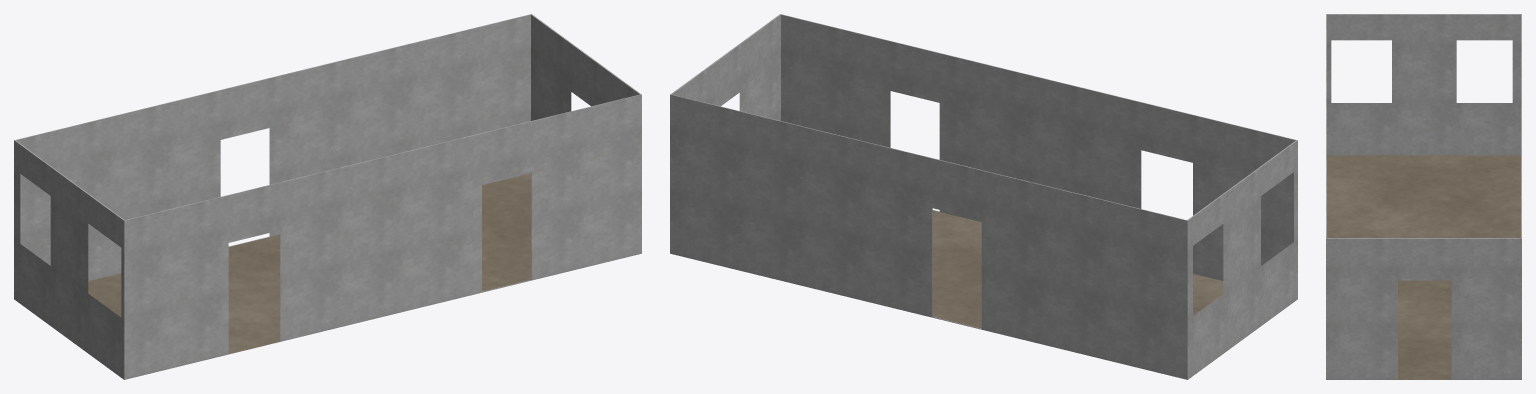
The model's file is Room-excluded.fbx.
3 renders of one model, left to right at view 1: azimuth 30°, elevation 25°; view 2: azimuth 150°, elevation 25°; view 3: azimuth 270°, elevation 25°, orthographic. The views are drawn at different scales.
Visible parts, largest first — view 1: Cube; view 2: Cube; view 3: Cube.
Boxes of the visible parts, <box> form: Cube: <box>14,14,641,379</box>; Cube: <box>670,14,1297,379</box>; Cube: <box>1326,14,1521,379</box>.
Size of the model in its own units: 10.21 by 3 by 3.76.
